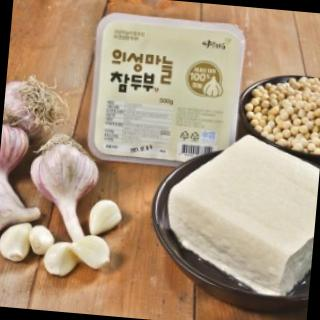Tahu: (165, 128, 320, 291)
